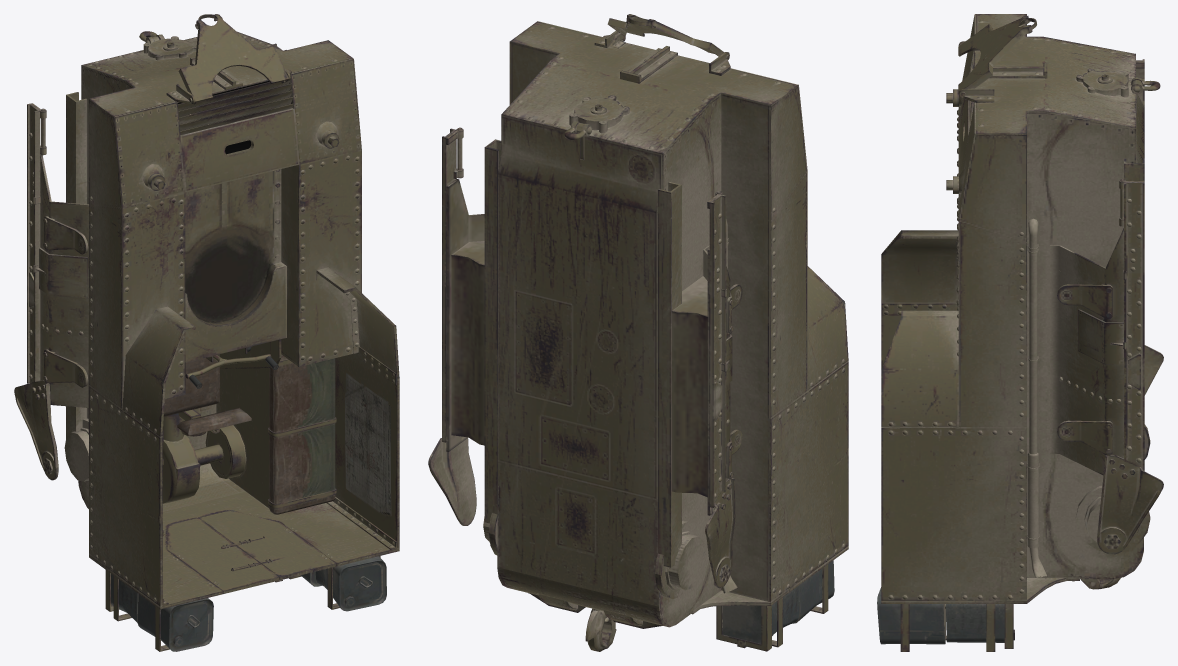
Rendered from Hull.glb.
3 views of the same model, side by side, from view 1: azimuth 30°, elevation 25°; view 2: azimuth 150°, elevation 25°; view 3: azimuth 270°, elevation 25° (orthographic). The views are drawn at different scales.
Parts seen in each view (by area): view 1: set_0_group_0; view 2: set_0_group_0; view 3: set_0_group_0.
Boxes of the visible parts, box(x1,y1,x2,y2) form: set_0_group_0: box(14, 14, 399, 651); set_0_group_0: box(428, 14, 848, 651); set_0_group_0: box(877, 14, 1163, 651).
Bounding box in the file's own units: 1.98 × 4.14 × 1.87.
1 material, 1 textured.
